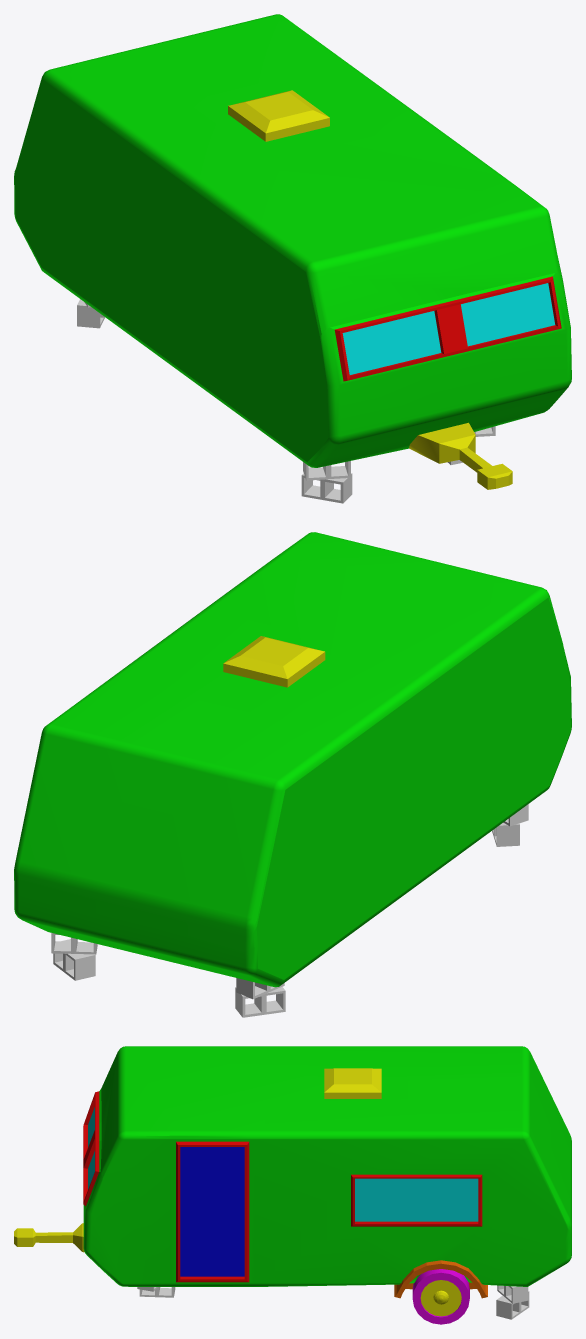
3 renders of one model, top to bottom at view 1: azimuth 30°, elevation 25°; view 2: azimuth 150°, elevation 25°; view 3: azimuth 270°, elevation 25°, orthographic. The views are drawn at different scales.
Parts seen in each view (by area): view 1: RV_Base1, pCube24, pCube57; view 2: RV_Base1, pCube67, pCube64, pCube65; view 3: RV_Base1, pCube64, pCube65.
Part boxes in pixels (x1,y1,x2,y2): RV_Base1: [14, 14, 571, 489]; pCube24: [301, 467, 352, 503]; pCube57: [303, 461, 350, 480]; RV_Base1: [14, 532, 571, 987]; pCube67: [235, 986, 285, 1017]; pCube64: [53, 939, 95, 980]; pCube65: [51, 933, 97, 954]; RV_Base1: [14, 1046, 571, 1324]; pCube64: [496, 1291, 529, 1319]; pCube65: [497, 1285, 528, 1303].
Bounding box in the file's own units: 306 × 310 × 776.
